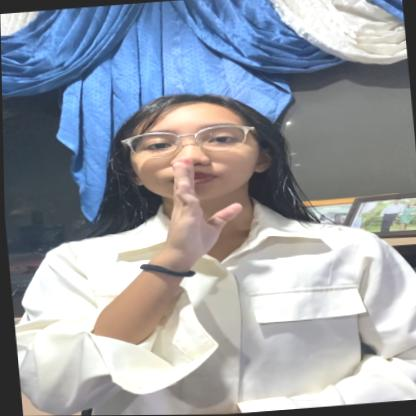Talk: (91, 77, 310, 272)
